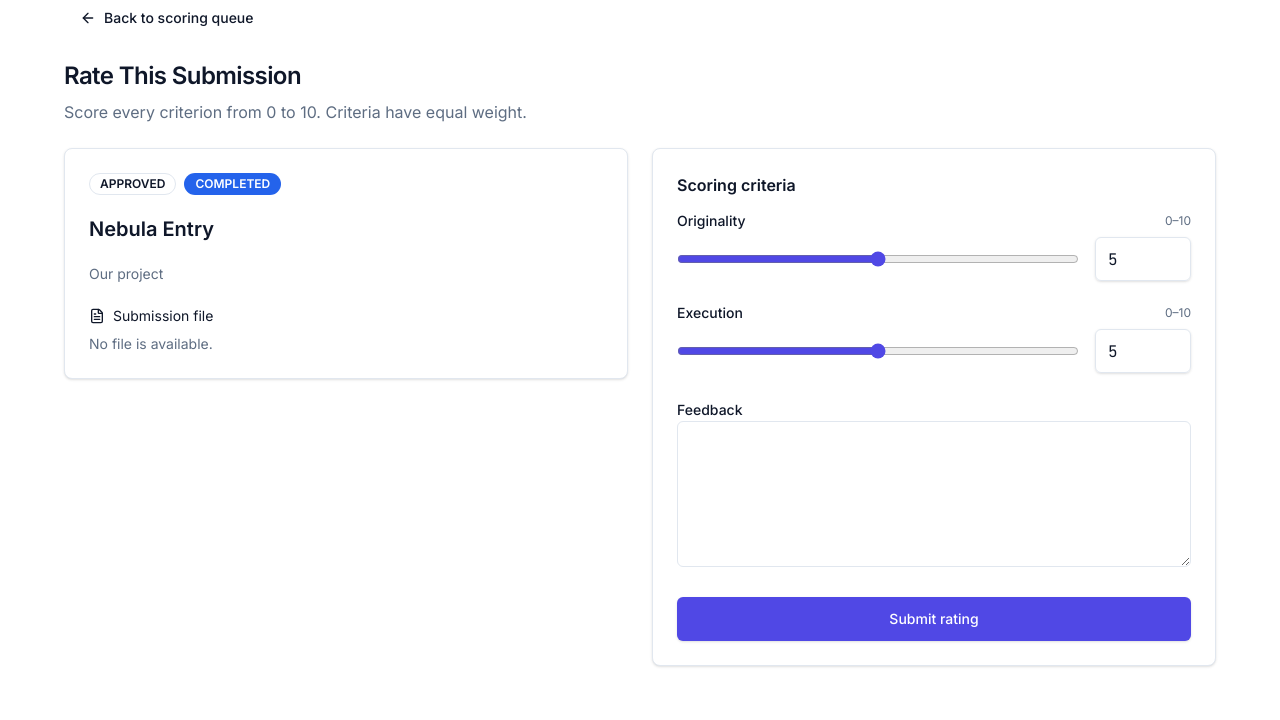
blocks out of range scores and closed scoring
Replace the text in the number field labelled "Originality" with "10.1" at (1143, 259), box [1095, 237, 1191, 281]
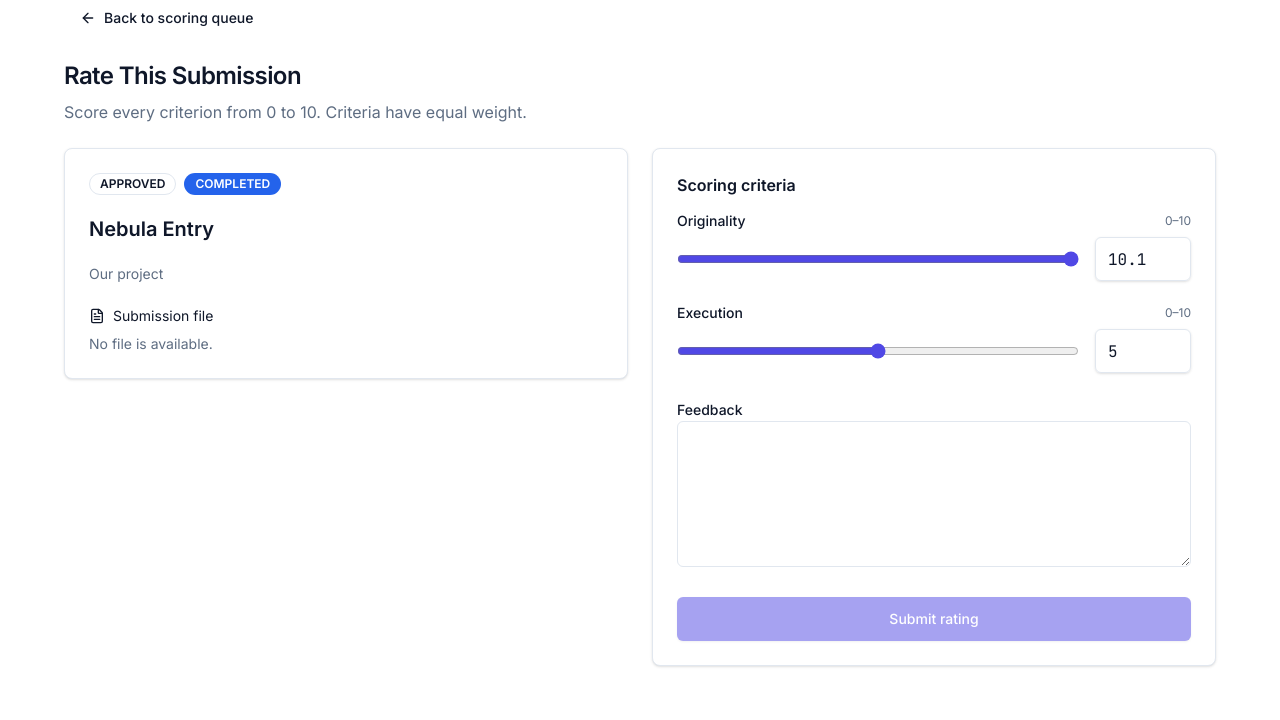
Check: the button "Submit rating" is disabled, box [677, 597, 1191, 641]
